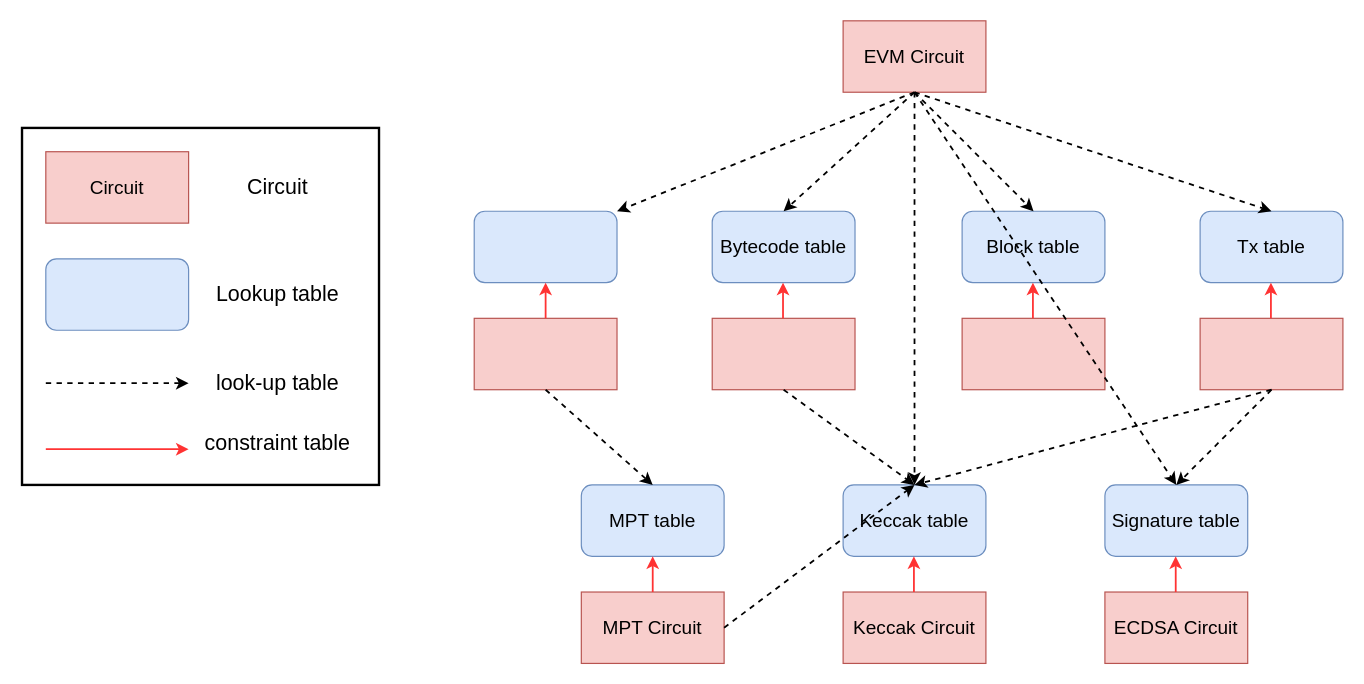
Image size: 1364x684. Some labels were removed from this diagram. Each missing label, with the box of its shape:
Block Circuit: (961, 317, 1105, 390)
Bytecode Circuit: (711, 317, 855, 390)
State Circuit: (473, 317, 617, 390)
State table: (473, 210, 617, 283)
table: (45, 258, 189, 330)
Tx Circuit: (1199, 317, 1343, 390)
